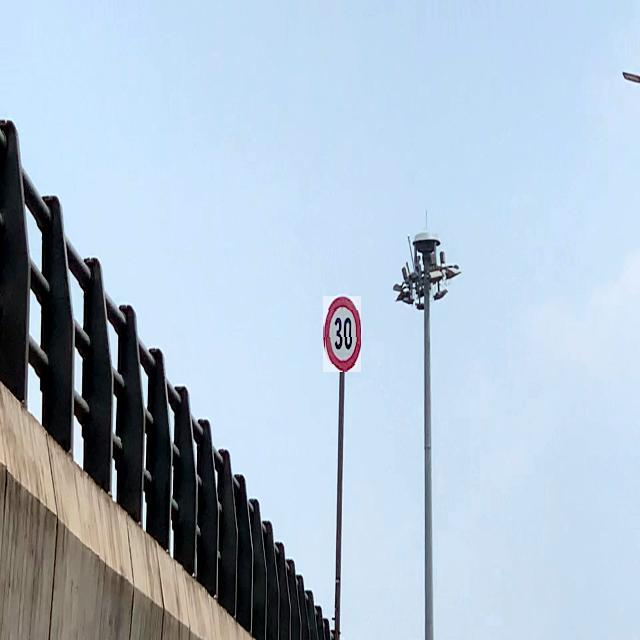P-127: (323, 296, 361, 372)
